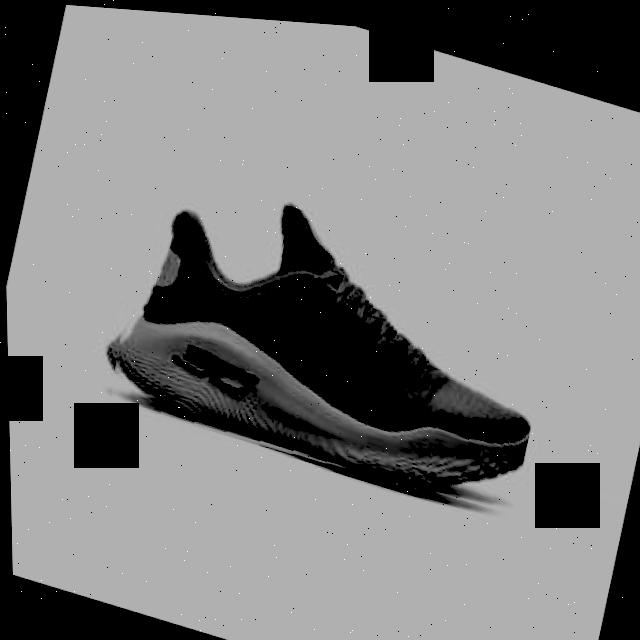shoe: (92, 158, 563, 521)
